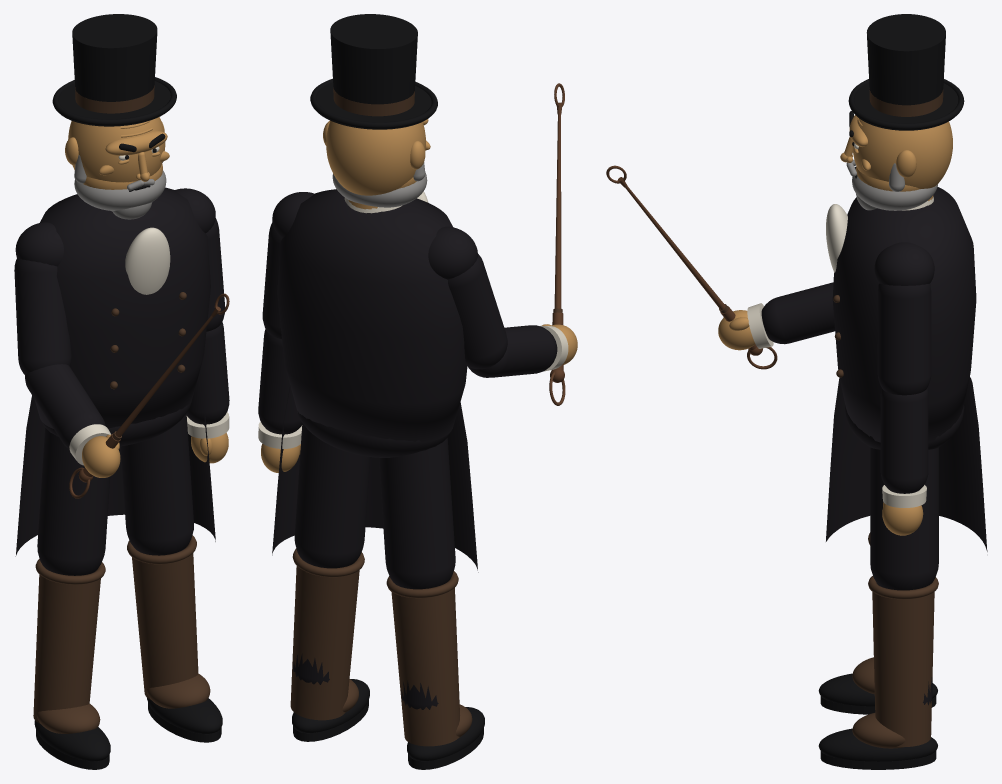
Rendered from grimesby.glb.
The picture shows the model from 3 angles, left to right: view 1: azimuth 30°, elevation 25°; view 2: azimuth 150°, elevation 25°; view 3: azimuth 270°, elevation 25°; orthographic projection. The views are drawn at different scales.
Parts seen in each view (by area): view 1: torso, thigh_left, thigh_right, gaiter_right, gaiter_left, hat_crown, upper_arm_right, coat_skirt, forearm_right, skull, forearm_left, shirt_front (+24 smaller); view 2: torso, thigh_right, gaiter_right, thigh_left, gaiter_left, hat_crown, coat_skirt, skull, upper_arm_right, forearm_left, forearm_right, pelvis (+18 smaller); view 3: torso, coat_skirt, gaiter_left, hat_crown, thigh_left, upper_arm_left, forearm_left, skull, forearm_right, shoulder_left, shoe_left, beard (+14 smaller).
Boxes of the visible parts, bbox=[...] form: torso: bbox=[34, 187, 210, 428]; thigh_left: bbox=[120, 413, 193, 555]; thigh_right: bbox=[37, 428, 110, 575]; gaiter_right: bbox=[33, 574, 100, 723]; gaiter_left: bbox=[132, 553, 198, 700]; hat_crown: bbox=[72, 14, 157, 113]; upper_arm_right: bbox=[14, 258, 71, 374]; coat_skirt: bbox=[15, 377, 215, 556]; forearm_right: bbox=[25, 364, 105, 449]; skull: bbox=[68, 117, 165, 182]; forearm_left: bbox=[186, 322, 229, 424]; shirt_front: bbox=[125, 227, 170, 294]; torso: bbox=[277, 189, 467, 442]; thigh_right: bbox=[378, 438, 455, 589]; gaiter_right: bbox=[391, 588, 459, 746]; thigh_left: bbox=[294, 423, 370, 568]; gaiter_left: bbox=[290, 566, 359, 720]; hat_crown: bbox=[330, 14, 417, 116]; coat_skirt: bbox=[272, 385, 478, 572]; skull: bbox=[326, 120, 425, 195]; upper_arm_right: bbox=[448, 254, 507, 369]; forearm_left: bbox=[258, 329, 302, 434]; forearm_right: bbox=[468, 325, 557, 377]; pelvis: bbox=[297, 411, 451, 457]; torso: bbox=[832, 187, 976, 442]; coat_skirt: bbox=[826, 376, 987, 551]; gaiter_left: bbox=[872, 592, 934, 746]; hat_crown: bbox=[866, 14, 945, 105]; thigh_left: bbox=[870, 447, 938, 590]; upper_arm_left: bbox=[877, 283, 931, 395]; forearm_left: bbox=[880, 388, 928, 493]; skull: bbox=[852, 118, 952, 188]; forearm_right: bbox=[761, 282, 834, 344]; shoulder_left: bbox=[874, 242, 934, 285]; shoe_left: bbox=[818, 728, 937, 761]; beard: bbox=[852, 176, 937, 210].
Bounding box in the file's own units: 0.6997 × 2.07 × 1.02.
